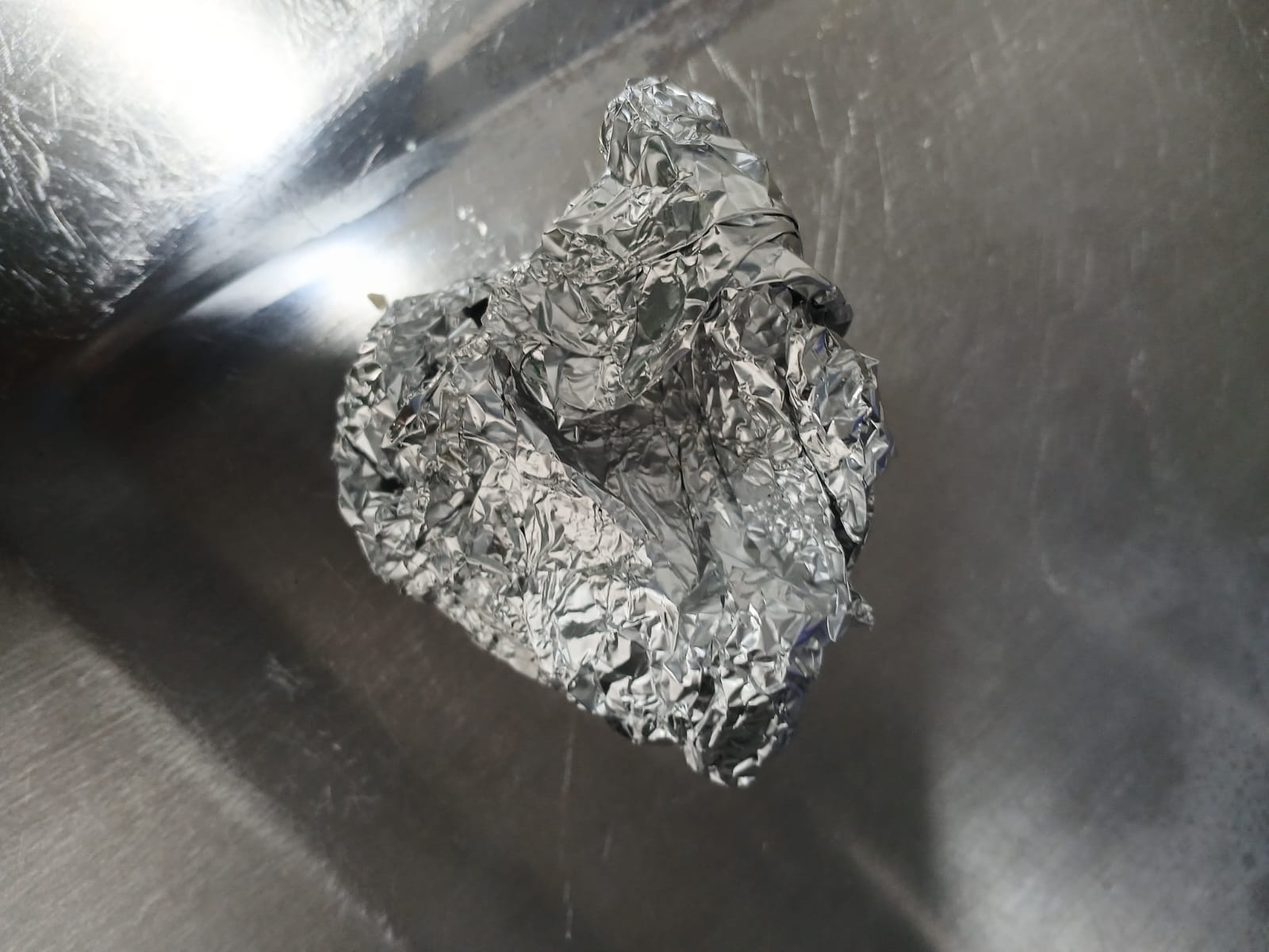Ordinario: (331, 73, 891, 791)
